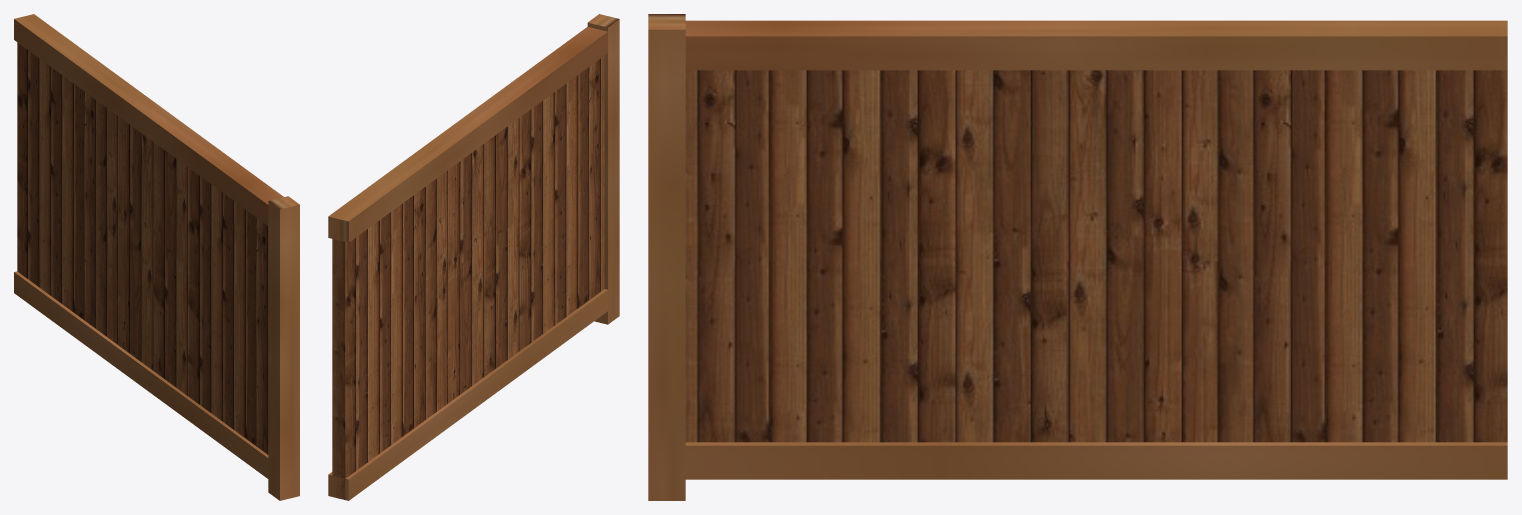
The model's file is fench.glb.
The picture shows the model from 3 angles, left to right: view 1: azimuth 30°, elevation 25°; view 2: azimuth 150°, elevation 25°; view 3: azimuth 270°, elevation 25°; orthographic projection. The views are drawn at different scales.
Parts seen in each view (by area): view 1: Cube.002; view 2: Cube.002; view 3: Cube.002.
Part boxes in pixels (x1,y1,x2,y2): Cube.002: [14, 14, 299, 500]; Cube.002: [328, 14, 619, 500]; Cube.002: [648, 14, 1507, 500].
Size of the model in its own units: 0.1574 by 2.19 by 3.62.
Materials: 1 (1 with a texture image).
